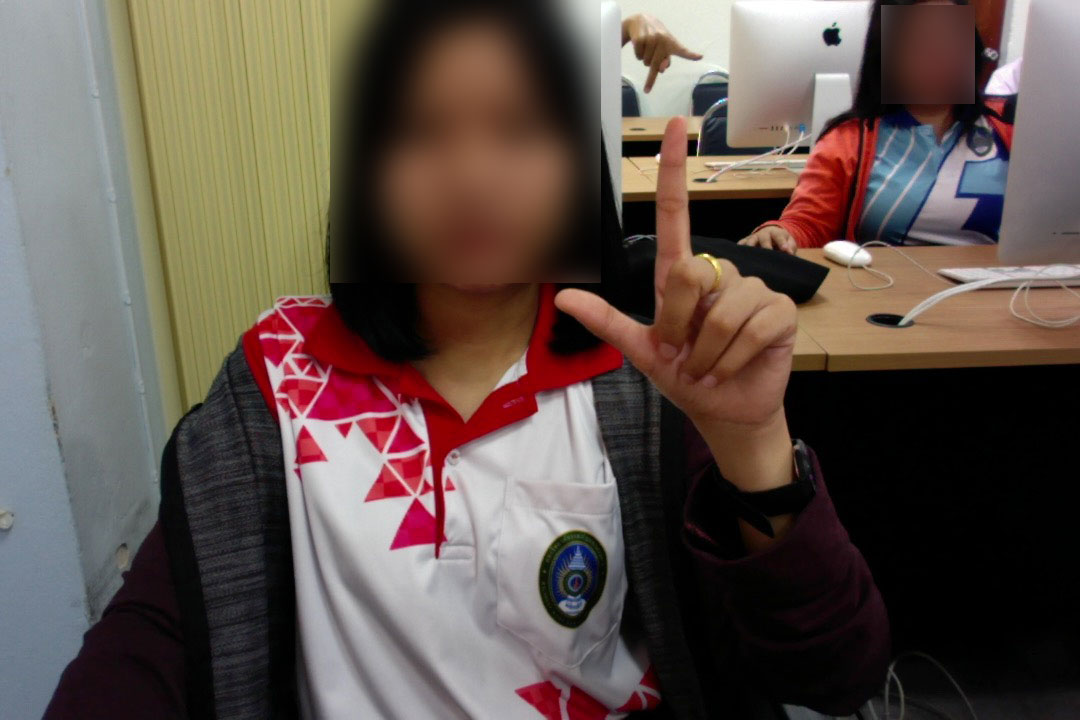lor: (543, 110, 810, 450)
